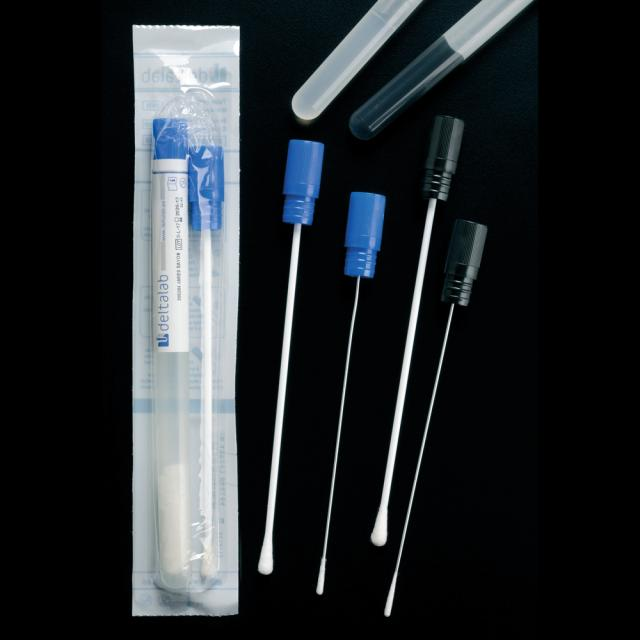B3: (244, 130, 323, 577), (188, 116, 227, 590)
